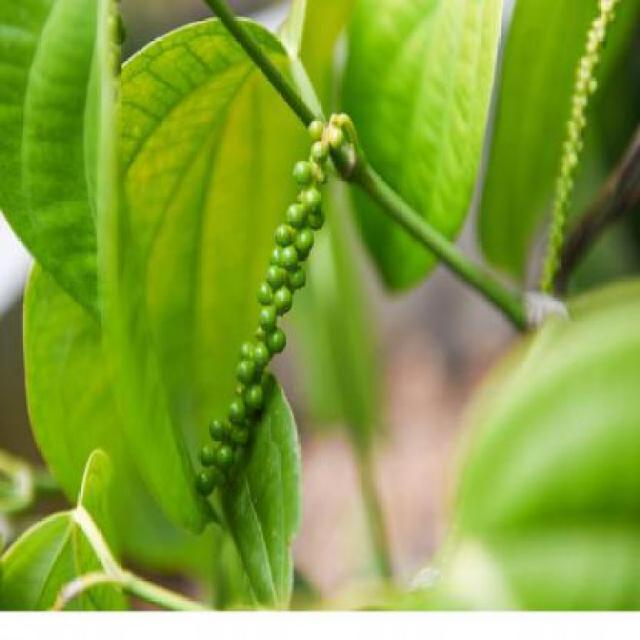UNRIPE: (182, 92, 370, 501)
